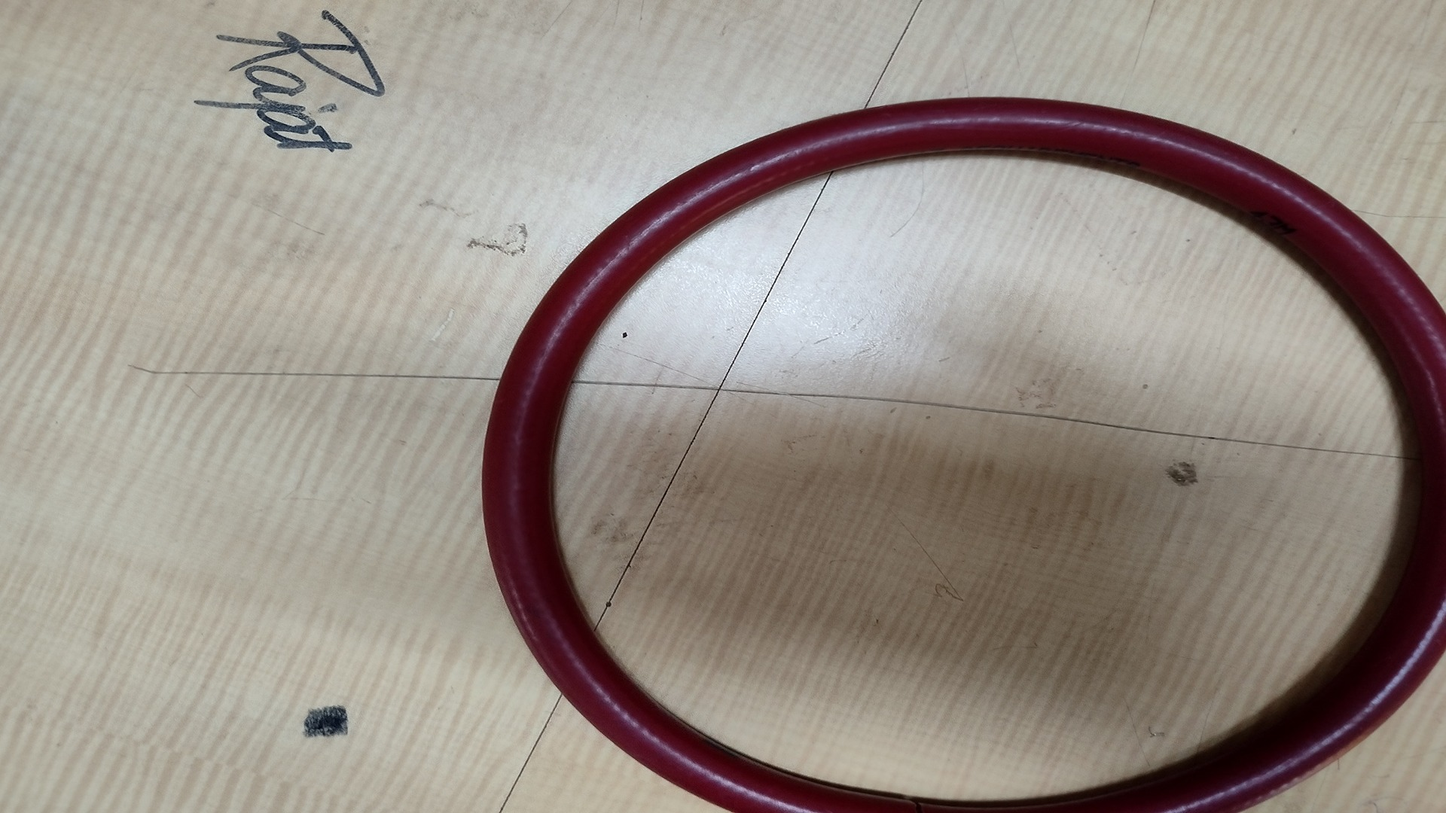Red ring: (485, 95, 1446, 813)
